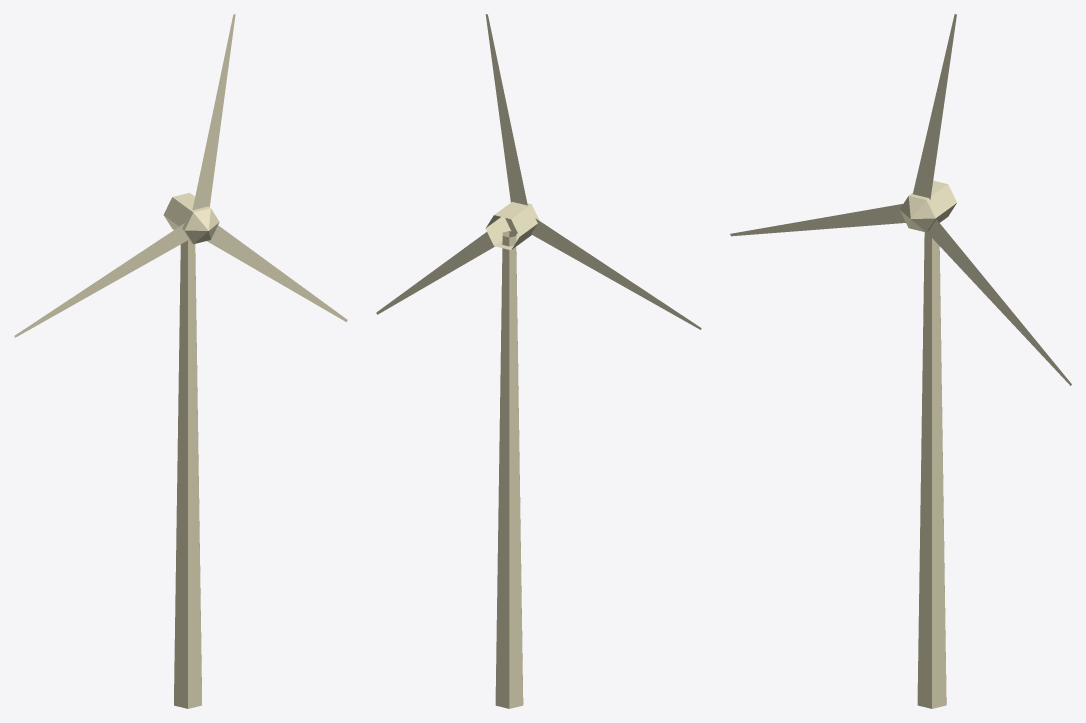
The model's file is windmill_144_mdl.fbx.
3 views of the same model, side by side, from view 1: azimuth 30°, elevation 25°; view 2: azimuth 150°, elevation 25°; view 3: azimuth 330°, elevation 25° (orthographic). The views are drawn at different scales.
Visible parts, largest first — view 1: windmill_tower_geo, propeller_geo; view 2: windmill_tower_geo, propeller_geo; view 3: windmill_tower_geo, propeller_geo.
Part boxes in pixels (x1,y1,x2,y2): windmill_tower_geo: [163, 192, 219, 708]; propeller_geo: [14, 14, 347, 337]; windmill_tower_geo: [485, 202, 539, 708]; propeller_geo: [376, 14, 701, 329]; windmill_tower_geo: [899, 180, 956, 708]; propeller_geo: [730, 14, 1071, 385].
Size of the model in its own units: 3586 by 7065 by 517.
